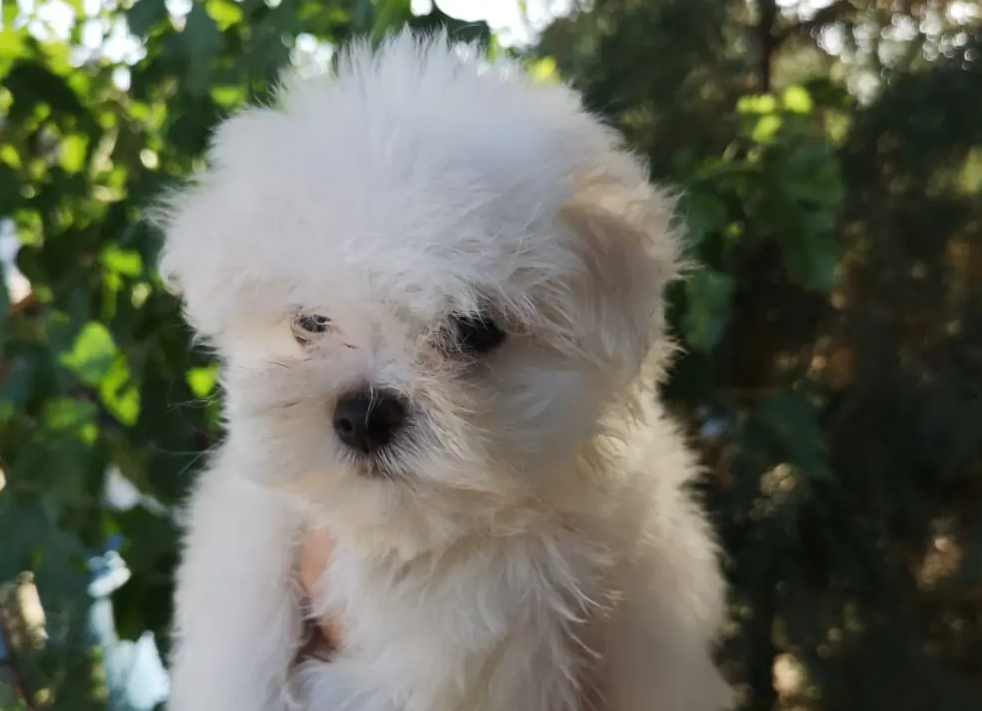perro: (139, 7, 751, 711)
